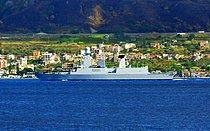MIL_Ship: (32, 46, 175, 81)
